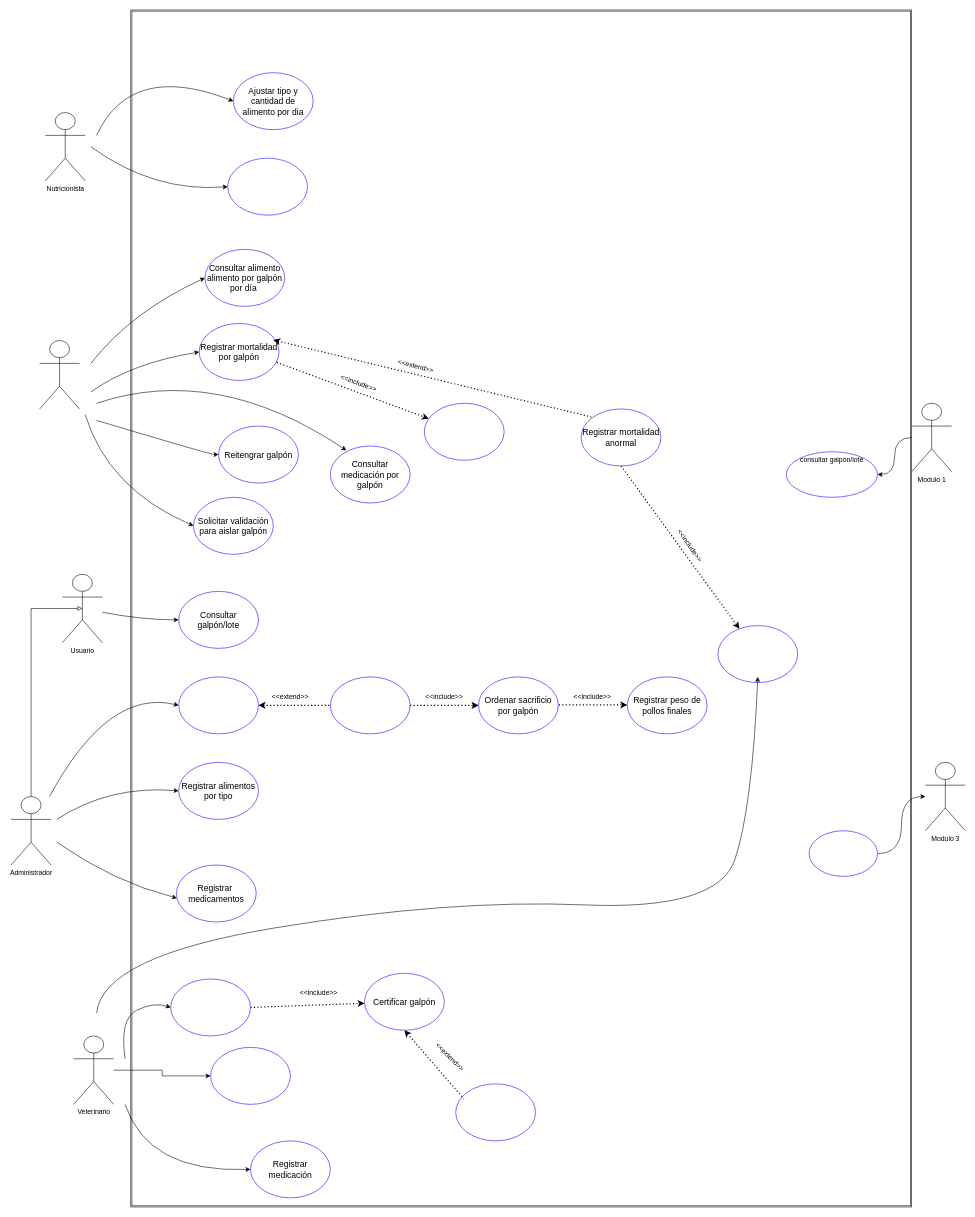
This 975x1217 diagram has some shape labels left out. Here are the shapes that lost their labels. From the top down, the centre of each, then its label:
At (x=267, y=186): "Cambiar alimento de galpón".
At (x=59, y=374): "Trabajador".
At (x=464, y=431): "Actualizar inventario vivo por galpón".
At (x=757, y=654): "Generar alerta sanitaria".
At (x=218, y=705): "Consultar edad por galpón".
At (x=370, y=705): "Validar apto para sacrifico".
At (x=843, y=853): "Consultar alimento requerido por galpón".
At (x=210, y=1007): "Validar aislamiento".
At (x=250, y=1075): "Registrar enfermedad".
At (x=495, y=1112): "Ordenar sacrificio sanitario".
